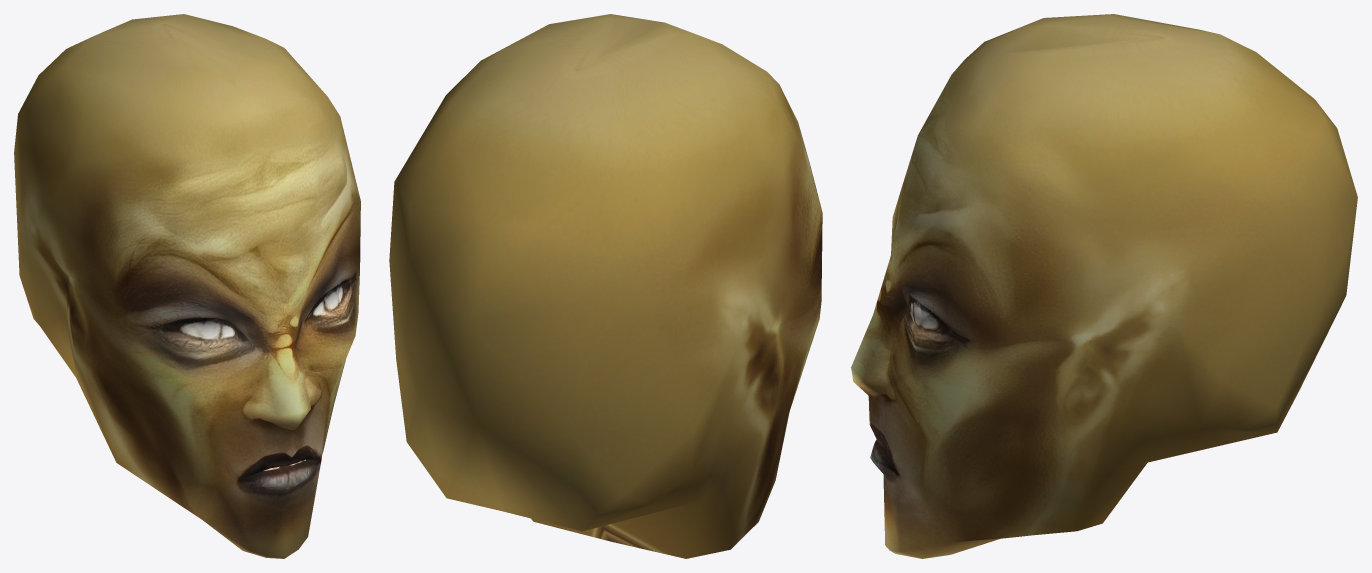
File: b_v_high elf_f_head_01.glb
The picture shows the model from 3 angles, left to right: view 1: azimuth 30°, elevation 25°; view 2: azimuth 150°, elevation 25°; view 3: azimuth 270°, elevation 25°; orthographic projection. The views are drawn at different scales.
Parts seen in each view (by area): view 1: Tri B_V_High Elf_F_Head_01; view 2: Tri B_V_High Elf_F_Head_01; view 3: Tri B_V_High Elf_F_Head_01.
Boxes of the visible parts, x1,y1,x2,y2 form: Tri B_V_High Elf_F_Head_01: (14, 14, 360, 558); Tri B_V_High Elf_F_Head_01: (389, 14, 822, 558); Tri B_V_High Elf_F_Head_01: (851, 14, 1357, 558).
Bounding box in the file's own units: 0.0969 × 0.1553 × 0.1389.
Materials: 1 (1 with a texture image).
